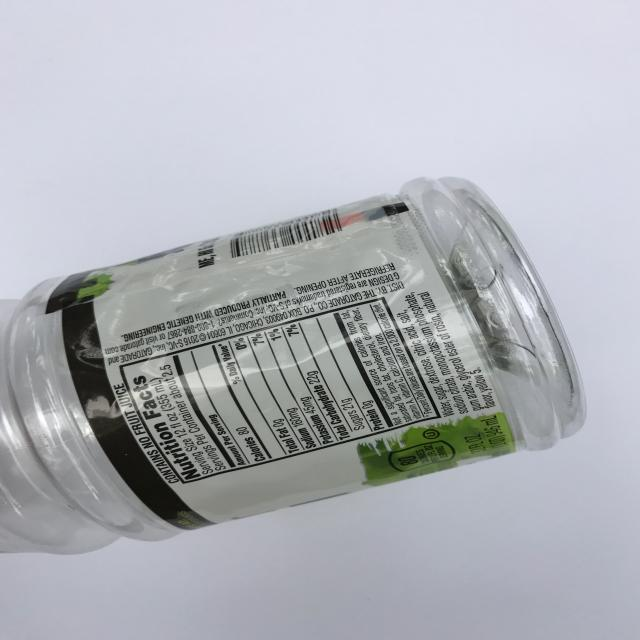plastic: (0, 174, 588, 556)
